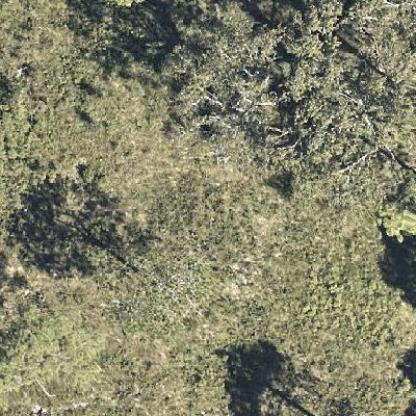tree-top: (100, 232, 214, 325), (4, 306, 93, 392)
